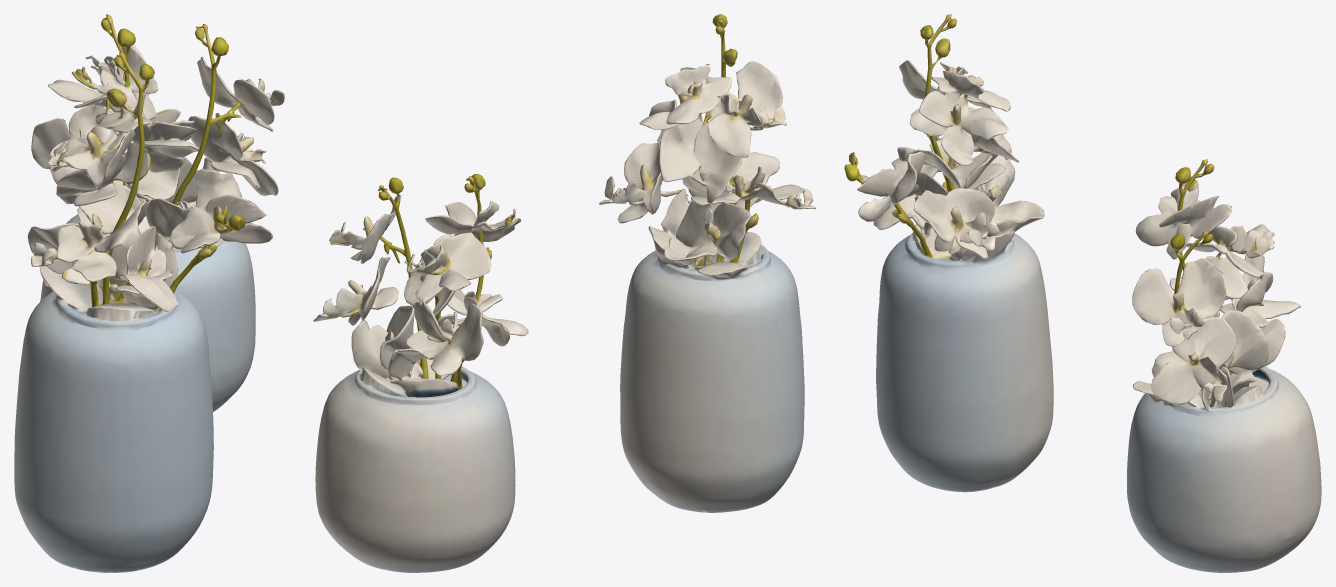
Rendered from decor-vases-white-ceramic.glb.
3 renders of one model, left to right at view 1: azimuth 30°, elevation 25°; view 2: azimuth 150°, elevation 25°; view 3: azimuth 270°, elevation 25°, orthographic. The views are drawn at different scales.
Parts seen in each view (by area): view 1: tripo_node_2e9ae0f2-70f1-452e-b68f-ff9e26ce3bf7; view 2: tripo_node_2e9ae0f2-70f1-452e-b68f-ff9e26ce3bf7; view 3: tripo_node_2e9ae0f2-70f1-452e-b68f-ff9e26ce3bf7.
Part boxes in pixels (x1,y1,x2,y2): tripo_node_2e9ae0f2-70f1-452e-b68f-ff9e26ce3bf7: (14,14,284,572); tripo_node_2e9ae0f2-70f1-452e-b68f-ff9e26ce3bf7: (313,14,815,572); tripo_node_2e9ae0f2-70f1-452e-b68f-ff9e26ce3bf7: (844,14,1321,572).
Size of the model in its own units: 0.2841 by 0.35 by 0.3358.
1 material, 1 textured.
